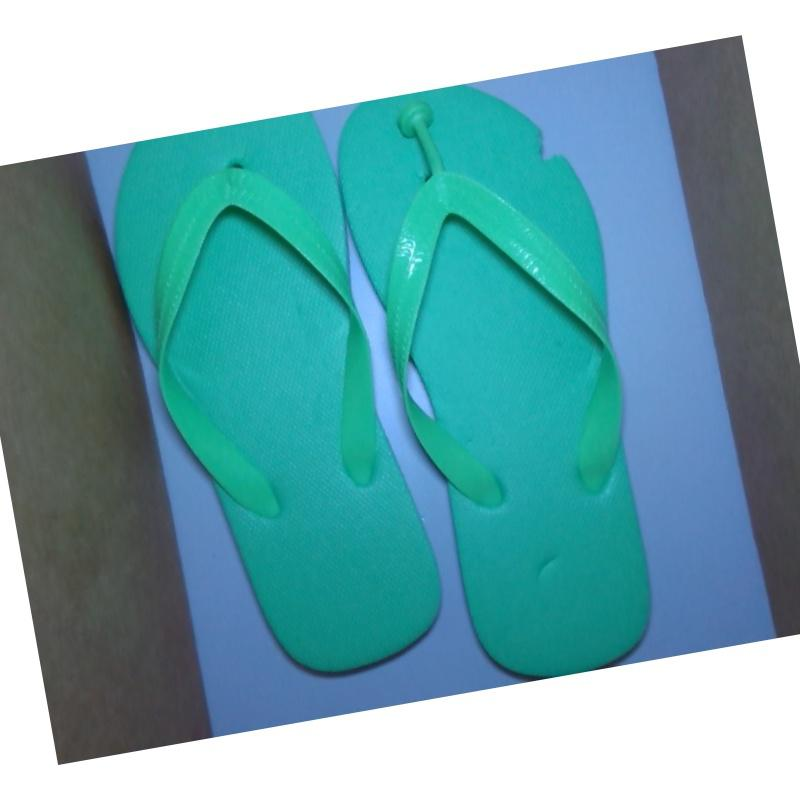chipped: (520, 112, 583, 183)
detached: (391, 96, 441, 157)
